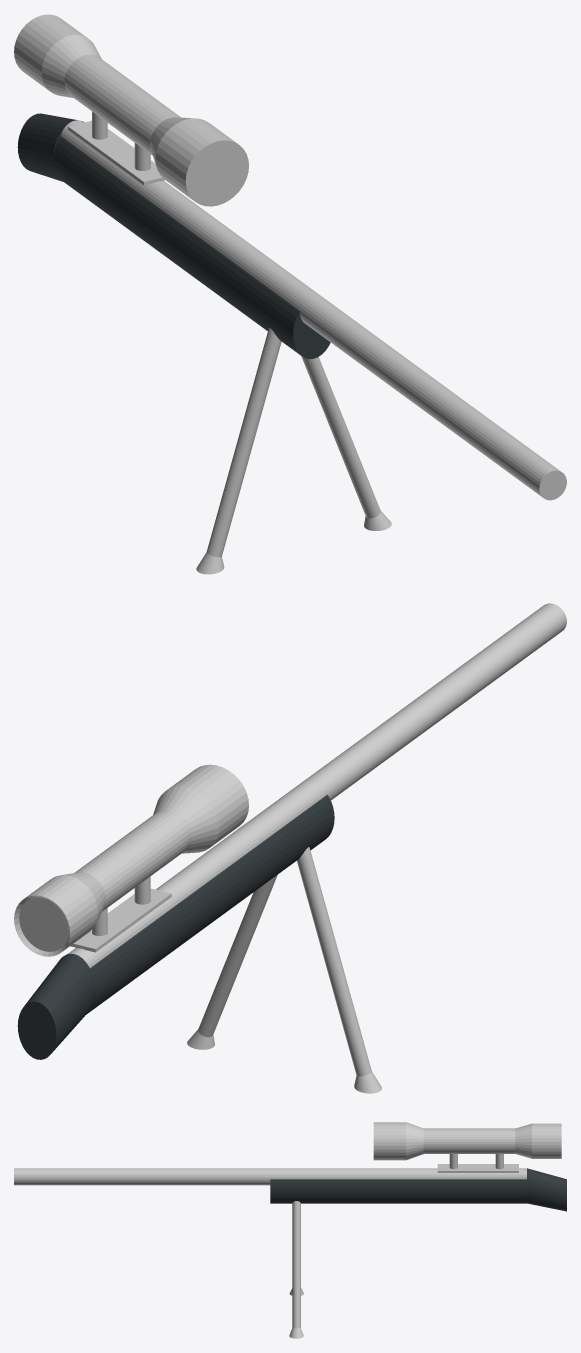
3 renders of one model, top to bottom at view 1: azimuth 30°, elevation 25°; view 2: azimuth 150°, elevation 25°; view 3: azimuth 270°, elevation 25°, orthographic. The views are drawn at different scales.
Visible parts, largest first — view 1: Cylinder, Cylinder.006, Cylinder.001, Cylinder.003, Cylinder.002, Cylinder.007, Cube; view 2: Cylinder, Cylinder.006, Cylinder.001, Cylinder.007, Cylinder.003, Cylinder.002, Cylinder.008, Cube; view 3: Cylinder, Cylinder.001, Cylinder.006, Cylinder.007, Cylinder.002, Cube.
Part boxes in pixels (bbox=[...]): Cylinder: bbox=[61, 120, 566, 500]; Cylinder.006: bbox=[14, 14, 248, 206]; Cylinder.001: bbox=[54, 136, 330, 358]; Cylinder.003: bbox=[196, 328, 281, 574]; Cylinder.002: bbox=[301, 356, 391, 530]; Cylinder.007: bbox=[17, 113, 84, 181]; Cube: bbox=[68, 120, 165, 185]; Cylinder: bbox=[67, 603, 566, 967]; Cylinder.006: bbox=[14, 764, 248, 956]; Cylinder.001: bbox=[86, 794, 334, 1014]; Cylinder.007: bbox=[17, 953, 95, 1059]; Cylinder.003: bbox=[297, 847, 381, 1093]; Cylinder.002: bbox=[187, 875, 277, 1049]; Cylinder.008: bbox=[19, 897, 68, 951]; Cube: bbox=[70, 888, 171, 952]; Cylinder: bbox=[14, 1168, 526, 1185]; Cylinder.001: bbox=[270, 1179, 526, 1203]; Cylinder.006: bbox=[373, 1122, 561, 1160]; Cylinder.007: bbox=[527, 1168, 566, 1211]; Cylinder.002: bbox=[289, 1201, 303, 1338]; Cube: bbox=[437, 1164, 518, 1172].
Bounding box in the file's own units: 13.88 × 24.62 × 64.69.
